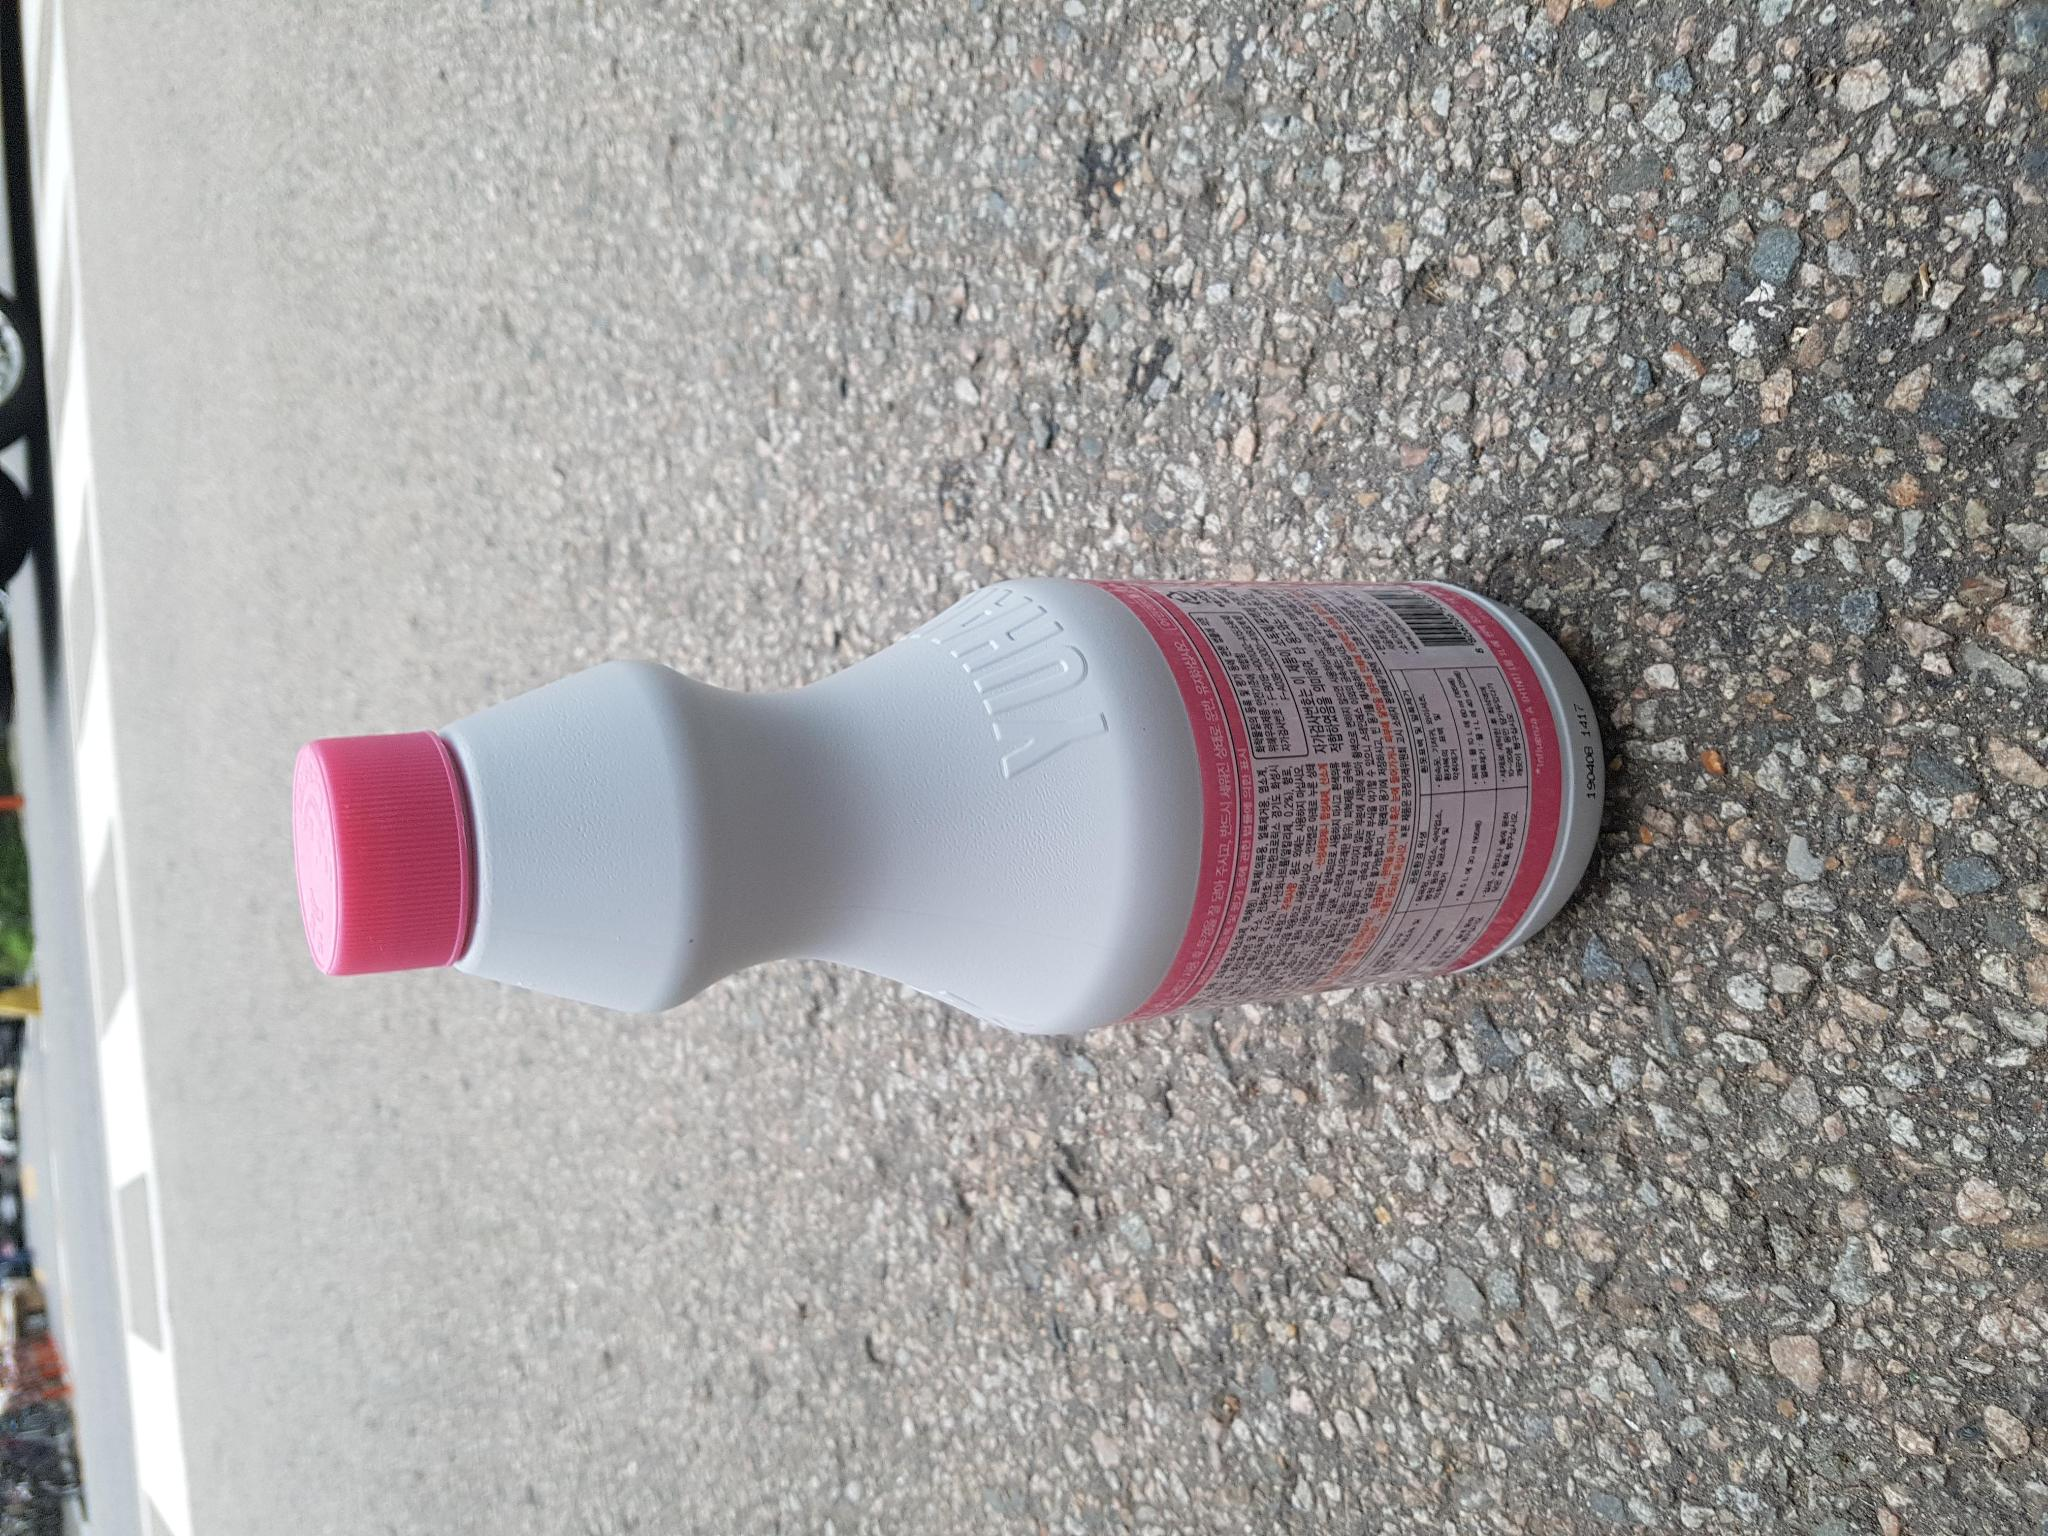bottle: (289, 549, 1622, 1054)
